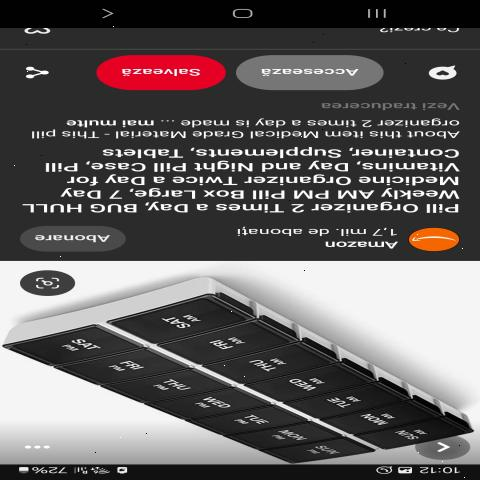PillBox: (1, 272, 464, 462)
